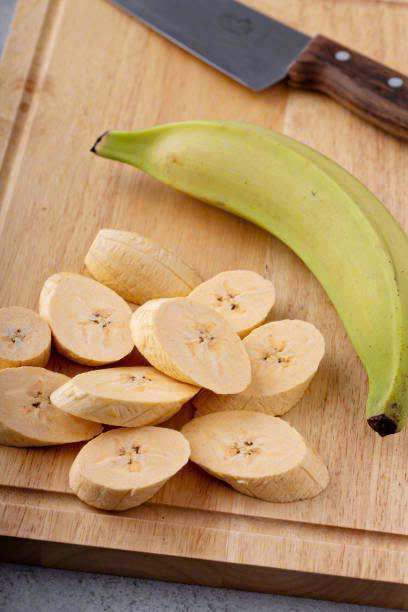banana: (54, 418, 195, 524), (188, 413, 333, 516), (128, 294, 261, 392), (34, 268, 137, 357), (83, 223, 203, 290), (50, 368, 188, 422), (6, 368, 92, 446), (244, 328, 330, 404), (200, 268, 281, 322)
